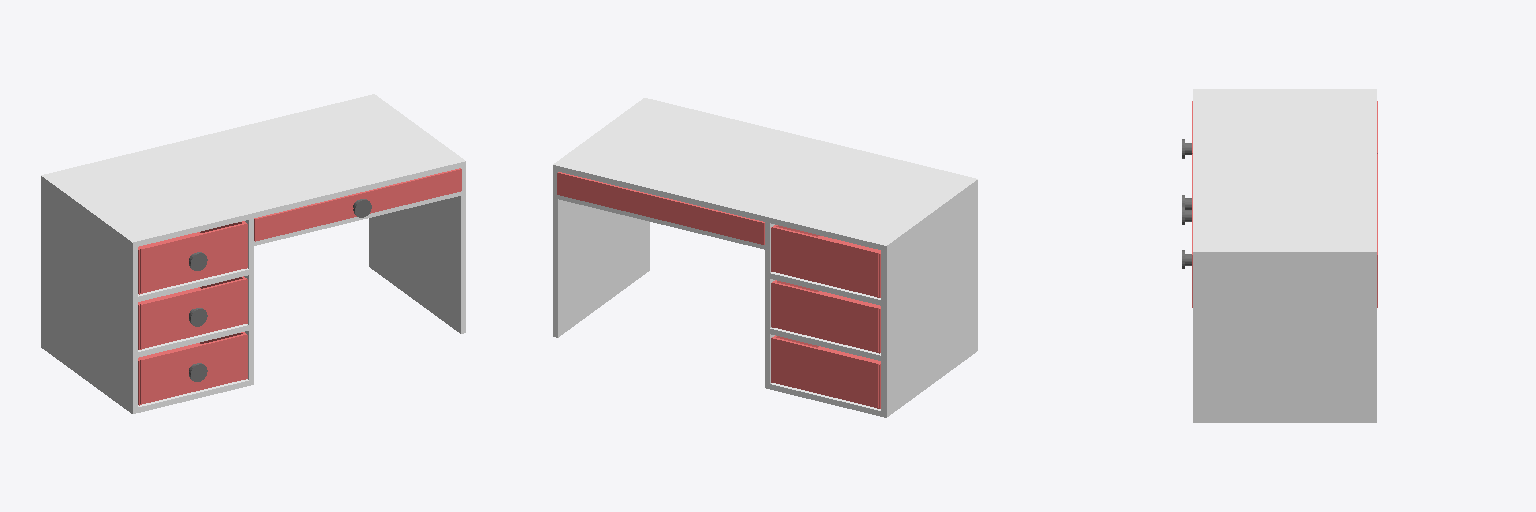
Rendered from Desk.obj.
3 renders of one model, left to right at view 1: azimuth 30°, elevation 25°; view 2: azimuth 150°, elevation 25°; view 3: azimuth 270°, elevation 25°, orthographic.
Parts seen in each view (by area): view 1: Object__15, Object__11, Object__7, Object__13, Object__35, Object__59, Object__23, Object__47, Object__9, Object__16, Object__0, Object__2 (+1 smaller); view 2: Object__15, Object__11, Object__7, Object__13, Object__21, Object__33, Object__45, Object__57, Object__9, Object__16, Object__5, Object__0 (+1 smaller); view 3: Object__13, Object__15, Object__7.
Boxes of the visible parts, x1=… form: Object__15: x1=160, y1=95, x2=462, y2=218; Object__11: x1=41, y1=174, x2=137, y2=413; Object__7: x1=47, y1=147, x2=248, y2=246; Object__13: x1=369, y1=94, x2=465, y2=333; Object__35: x1=140, y1=278, x2=246, y2=348; Object__59: x1=254, y1=168, x2=461, y2=241; Object__23: x1=140, y1=333, x2=246, y2=404; Object__47: x1=140, y1=223, x2=246, y2=293; Object__9: x1=158, y1=146, x2=253, y2=385; Object__16: x1=252, y1=191, x2=461, y2=246; Object__0: x1=138, y1=379, x2=248, y2=412; Object__2: x1=138, y1=324, x2=248, y2=357; Object__15: x1=557, y1=99, x2=857, y2=221; Object__11: x1=881, y1=178, x2=977, y2=417; Object__7: x1=770, y1=151, x2=971, y2=249; Object__13: x1=553, y1=98, x2=649, y2=337; Object__21: x1=772, y1=337, x2=878, y2=407; Object__33: x1=772, y1=282, x2=878, y2=352; Object__45: x1=772, y1=226, x2=878, y2=296; Object__57: x1=557, y1=172, x2=764, y2=244; Object__9: x1=765, y1=150, x2=861, y2=388; Object__16: x1=558, y1=195, x2=765, y2=249; Object__5: x1=770, y1=272, x2=880, y2=305; Object__0: x1=770, y1=383, x2=880, y2=416; Object__13: x1=1193, y1=249, x2=1376, y2=422; Object__15: x1=1193, y1=147, x2=1376, y2=249; Object__7: x1=1193, y1=91, x2=1376, y2=145.
Size of the model in its own units: 3.15 by 1.55 by 1.61.